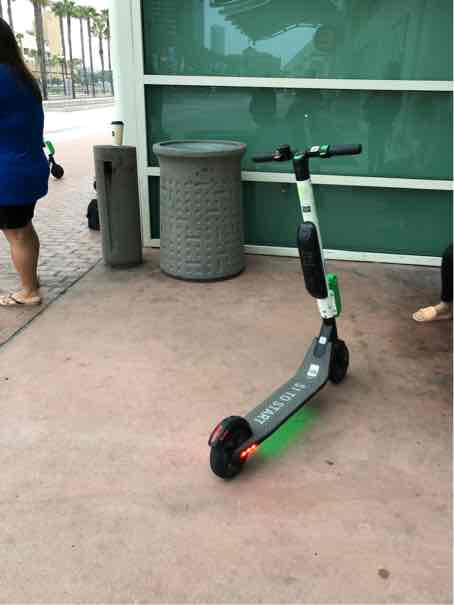scooter: (204, 141, 377, 490)
